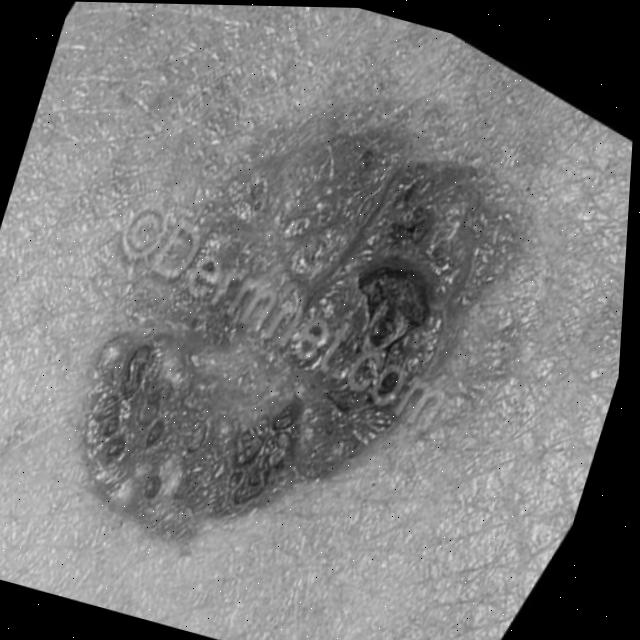Eczema: (78, 54, 493, 581)
